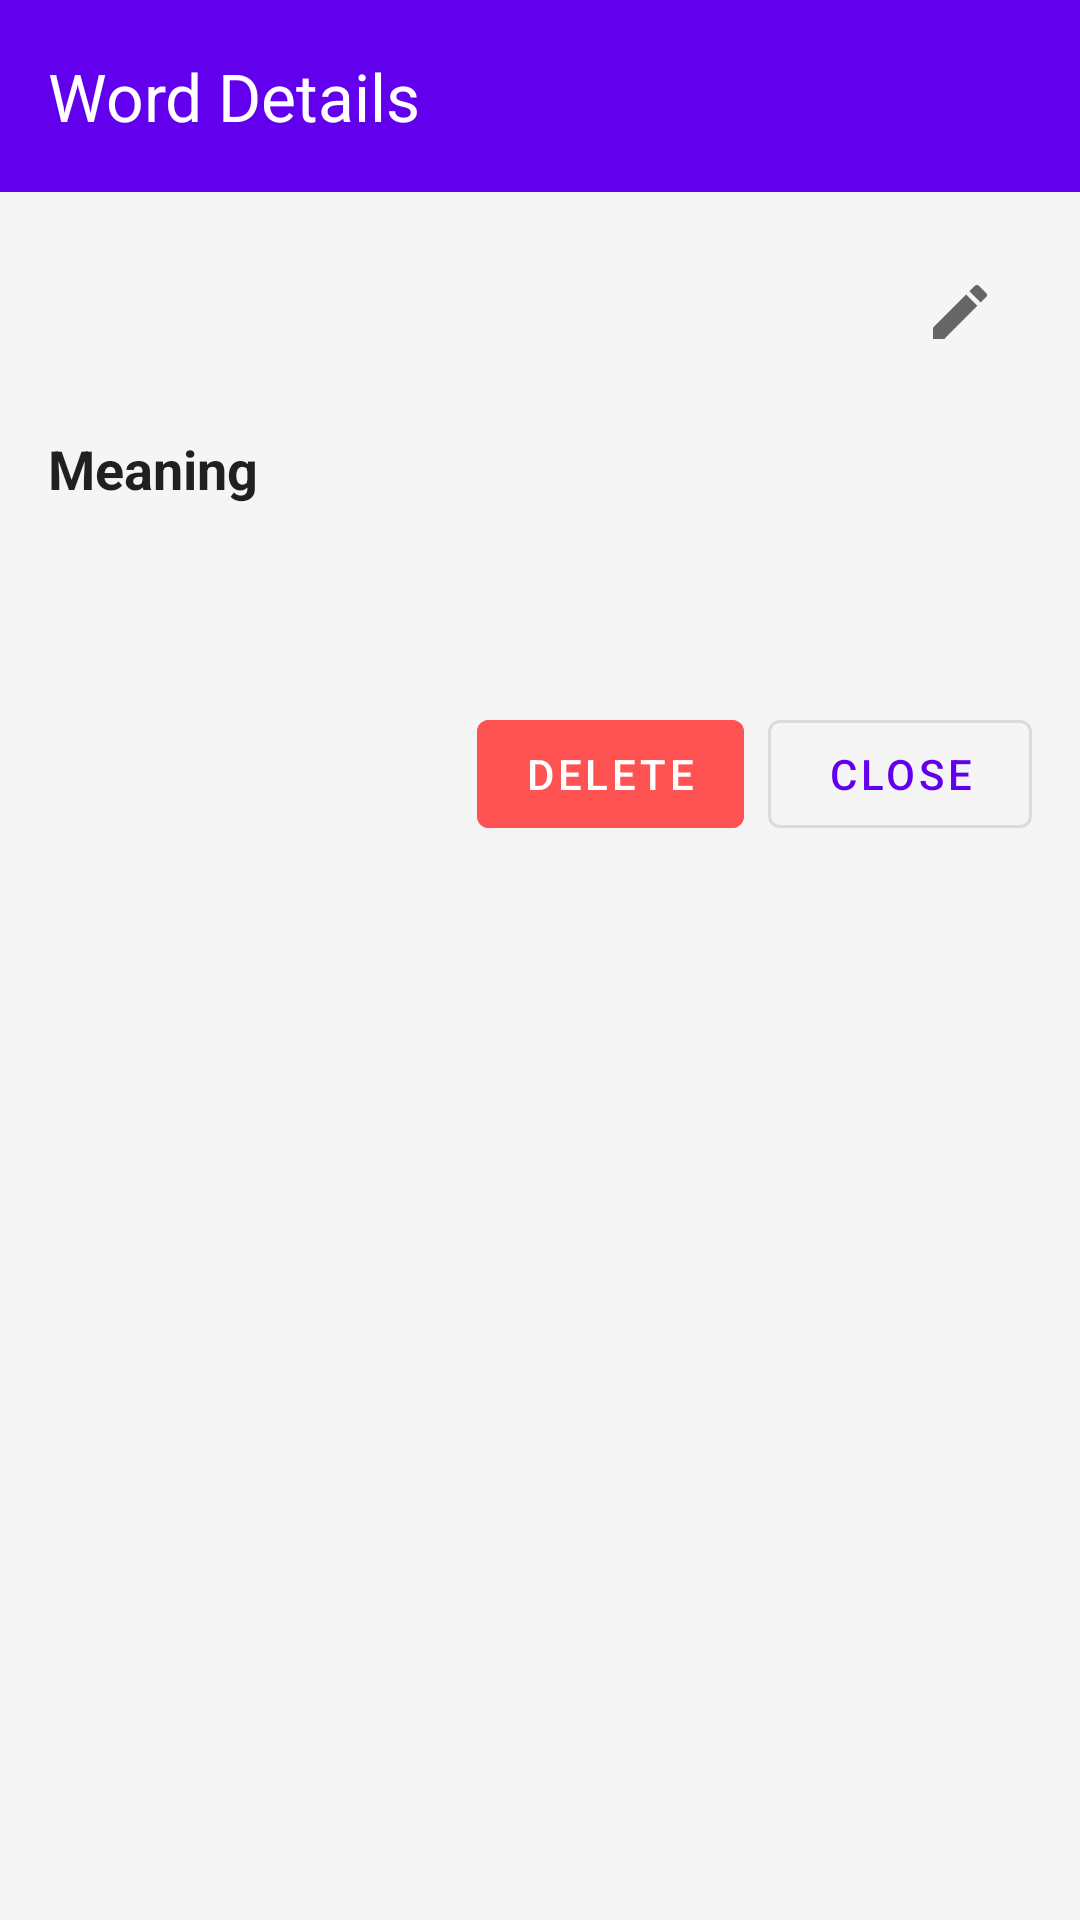

Locate icon controls on the screen. Image size 1080w x 1920h, boxes as bbox(x1, y1, x2, y2).
Edit word: bbox(933, 285, 987, 339)
